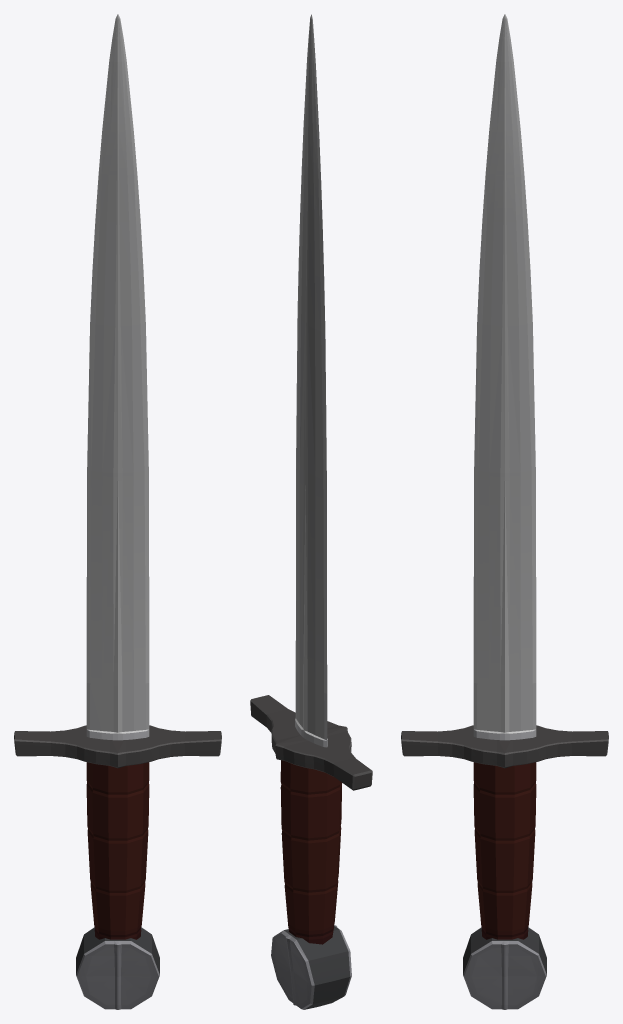
Rendered from bladedLightDagger.glb.
3 views of the same model, side by side, from view 1: azimuth 90°, elevation 25°; view 2: azimuth 210°, elevation 25°; view 3: azimuth 270°, elevation 25° (orthographic).
Visible parts, largest first — view 1: bladedLightDagger; view 2: bladedLightDagger; view 3: bladedLightDagger.
Part boxes in pixels (<box>): bladedLightDagger: <box>14,14,221,1009</box>; bladedLightDagger: <box>250,14,372,1009</box>; bladedLightDagger: <box>401,14,608,1009</box>.
Size of the model in its own units: 0.0564 by 0.737 by 0.1403.
